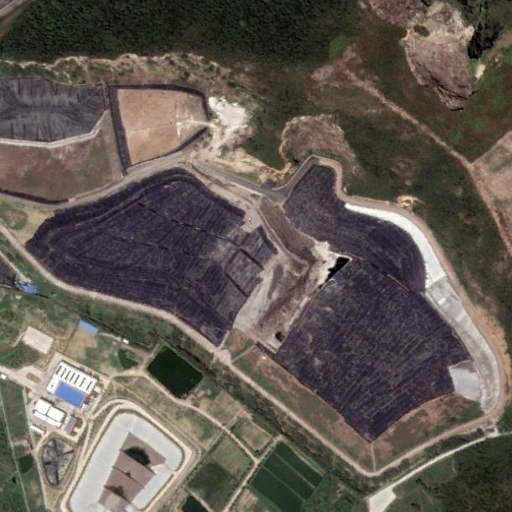lf: (25, 155, 502, 467)
